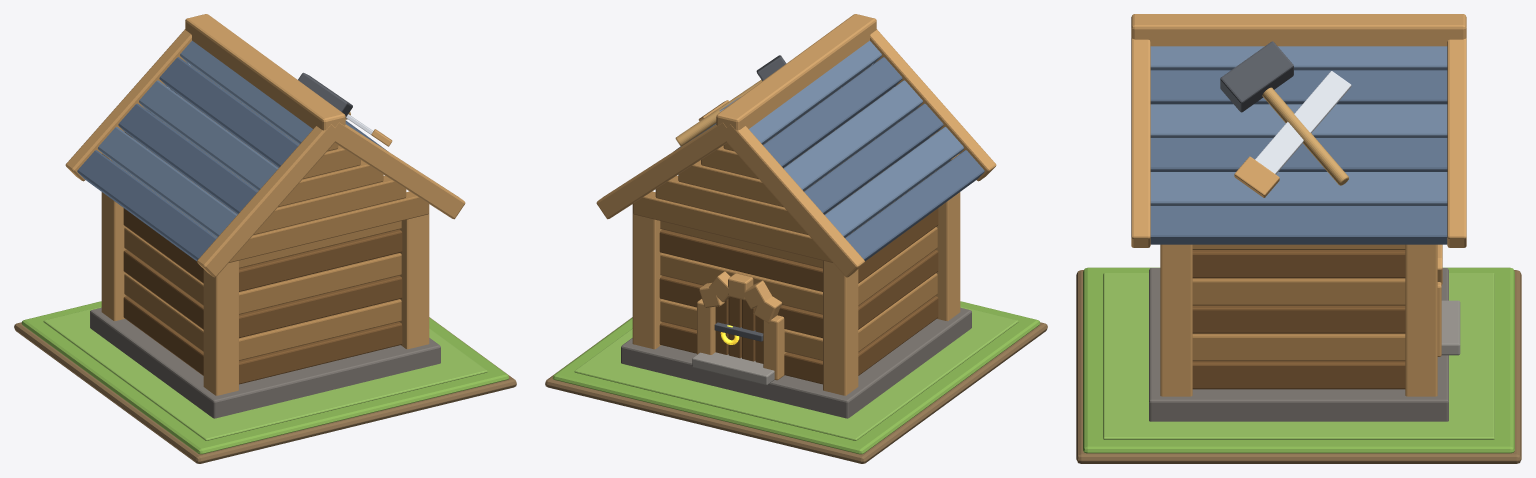
File: builder_barracks_lv5.glb
3 renders of one model, left to right at view 1: azimuth 30°, elevation 25°; view 2: azimuth 150°, elevation 25°; view 3: azimuth 270°, elevation 25°, orthographic. The views are drawn at different scales.
Parts seen in each view (by area): view 1: Base_Inner, BB_Foundation, Base_Grass, WallPlank_0, WallPlank_2, WallPlank_1, WallPlank_3, RidgeBeam, WallPlank_4, Base_Dirt, Bargeboard_-1_-1, RoofSlope_-1_5 (+16 smaller); view 2: Base_Inner, BB_Foundation, Base_Grass, RidgeBeam, WallPlank_4, Base_Dirt, Bargeboard_1_-1, RoofSlope_-1_5, RoofSlope_-1_3, RoofSlope_-1_1, RoofSlope_-1_2, RoofSlope_-1_4 (+22 smaller); view 3: Base_Inner, Base_Grass, RoofSlope_1_5, BB_Foundation, RidgeBeam, RoofSlope_1_4, RoofSlope_1_2, RoofSlope_1_3, RoofSlope_1_1, Base_Dirt, RoofSlope_1_0, WallPlank_0 (+14 smaller).
Boxes of the visible parts, x1,y1,x2,y2 form: Base_Inner: (43, 306, 487, 440); BB_Foundation: (90, 307, 440, 418); Base_Grass: (21, 301, 509, 454); WallPlank_0: (123, 296, 402, 384); WallPlank_2: (123, 250, 402, 338); WallPlank_1: (124, 273, 401, 360); WallPlank_3: (124, 227, 401, 314); RidgeBeam: (185, 14, 345, 130); WallPlank_4: (123, 208, 402, 291); Base_Dirt: (14, 317, 516, 463); Bargeboard_-1_-1: (197, 124, 335, 277); RoofSlope_-1_5: (77, 150, 216, 261); Base_Inner: (574, 306, 1018, 440); BB_Foundation: (621, 307, 971, 418); Base_Grass: (552, 301, 1040, 454); RidgeBeam: (716, 14, 876, 130); WallPlank_4: (659, 208, 938, 291); Base_Dirt: (545, 317, 1047, 463); Bargeboard_1_-1: (723, 124, 864, 277); RoofSlope_-1_5: (845, 150, 984, 261); RoofSlope_-1_3: (804, 103, 943, 214); RoofSlope_-1_1: (763, 57, 902, 167); RoofSlope_-1_2: (783, 80, 922, 191); RoofSlope_-1_4: (824, 127, 963, 237); Base_Inner: (1103, 273, 1494, 439); Base_Grass: (1083, 267, 1514, 453); RoofSlope_1_5: (1150, 206, 1447, 244); BB_Foundation: (1149, 268, 1448, 421); RidgeBeam: (1131, 14, 1466, 46); RoofSlope_1_4: (1150, 172, 1447, 205); RoofSlope_1_2: (1150, 104, 1447, 137); RoofSlope_1_3: (1150, 138, 1447, 171); RoofSlope_1_1: (1150, 70, 1447, 104); Base_Dirt: (1076, 270, 1521, 463); RoofSlope_1_0: (1150, 46, 1447, 70); WallPlank_0: (1192, 361, 1405, 389).
Size of the model in its own units: 2.76 by 2.41 by 2.76.
